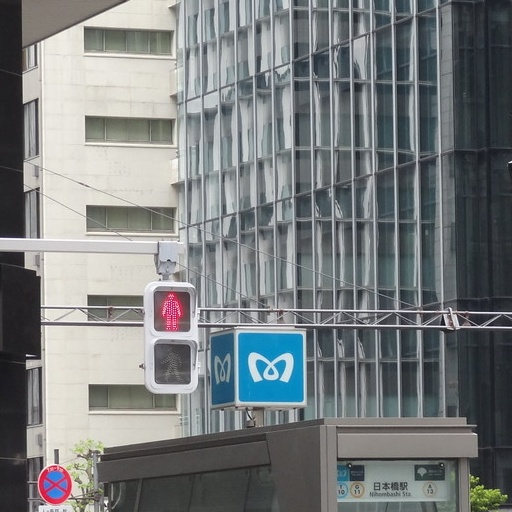Traffic_Signal_Red: (144, 275, 207, 400)
